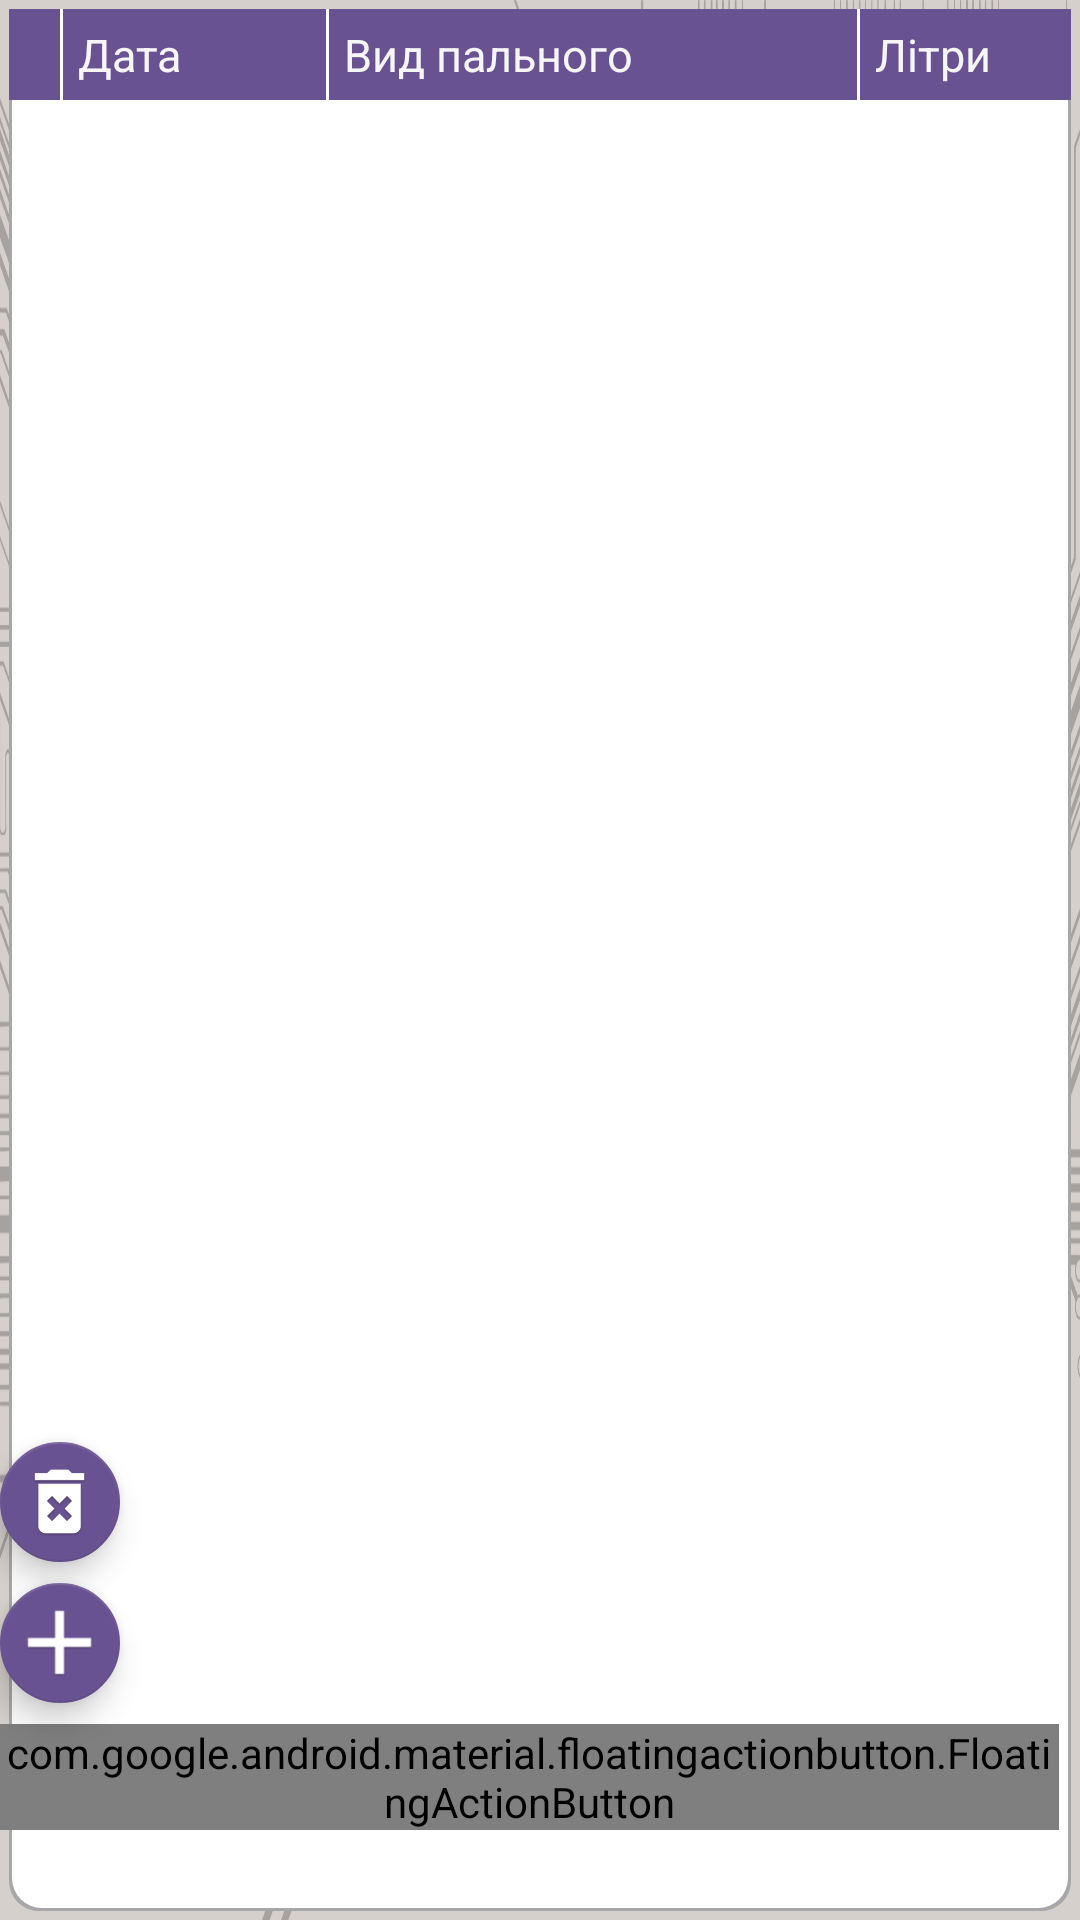

Where icons sit on this 1080w x 1920h app screen, as (x1, y1, x2, y2):
delete: (0, 1442, 120, 1562)
plus: (0, 1583, 120, 1703)
